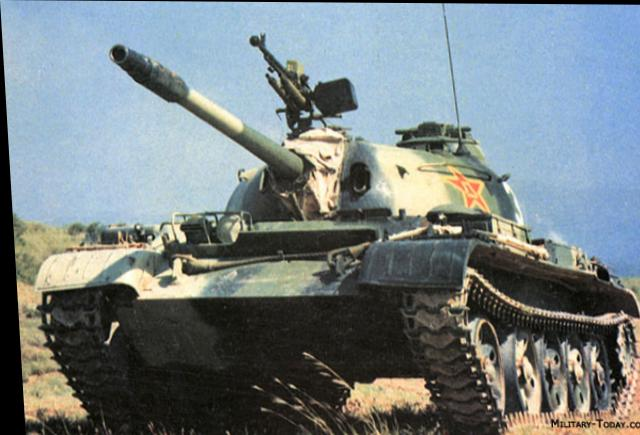tank: (39, 41, 638, 414)
